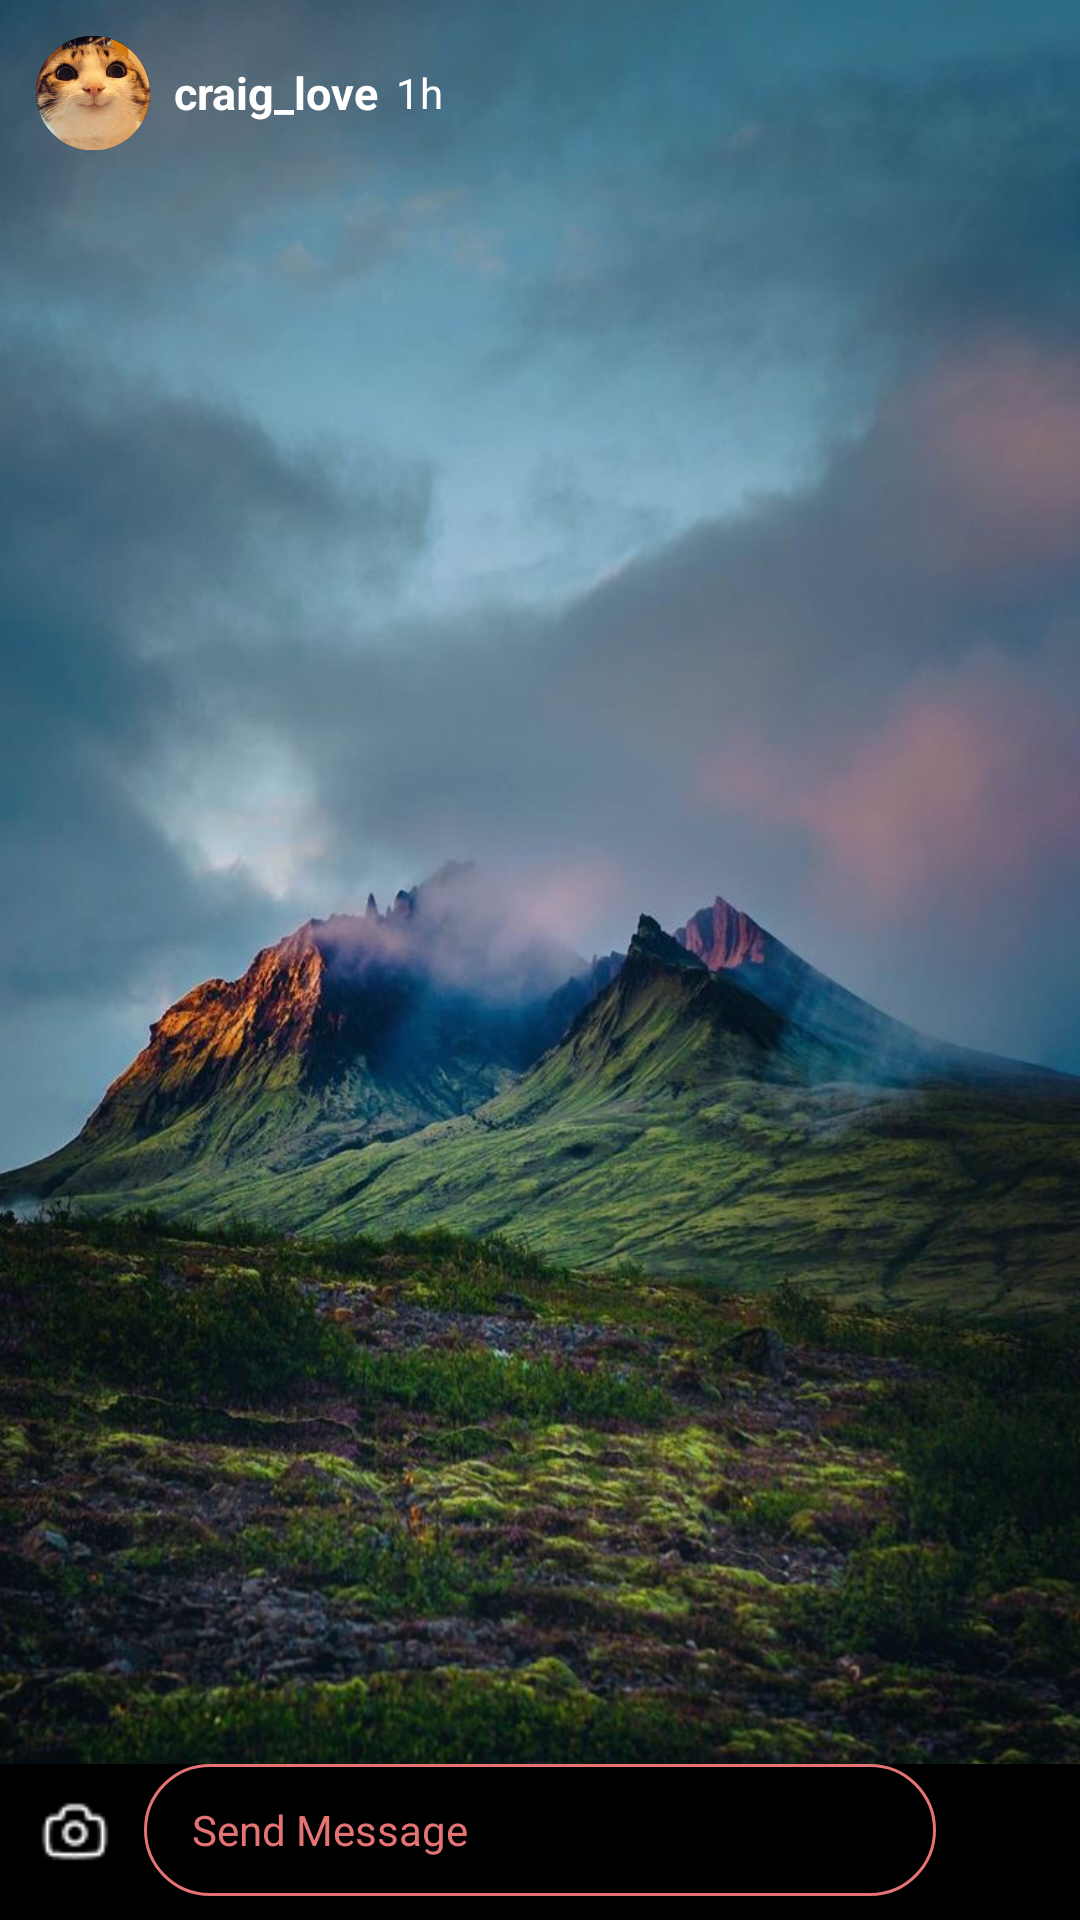

Where to tap for icons on this 1080x1920 app screen, as (x,y):
Camera: (75,1831)
User profile picture: (93,93)
